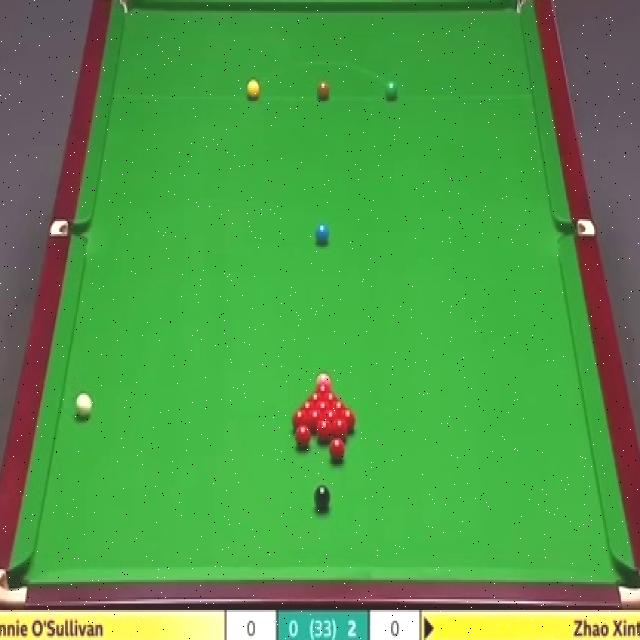black-ball: (314, 485, 332, 513)
blue-ball: (314, 222, 330, 247)
brown-ball: (316, 79, 330, 100)
green-ball: (384, 79, 398, 101)
pink-ball: (316, 371, 333, 386)
red-ball: (328, 439, 348, 464), (331, 418, 348, 442), (294, 425, 311, 447), (316, 419, 331, 442), (292, 408, 309, 426), (324, 411, 339, 431), (308, 410, 323, 429), (339, 411, 356, 427), (299, 400, 316, 411), (315, 401, 332, 411), (323, 392, 340, 401), (332, 402, 348, 411), (314, 384, 332, 392), (308, 392, 323, 401)
white-ball: (73, 395, 92, 422)
yellow-ball: (247, 80, 260, 101)
